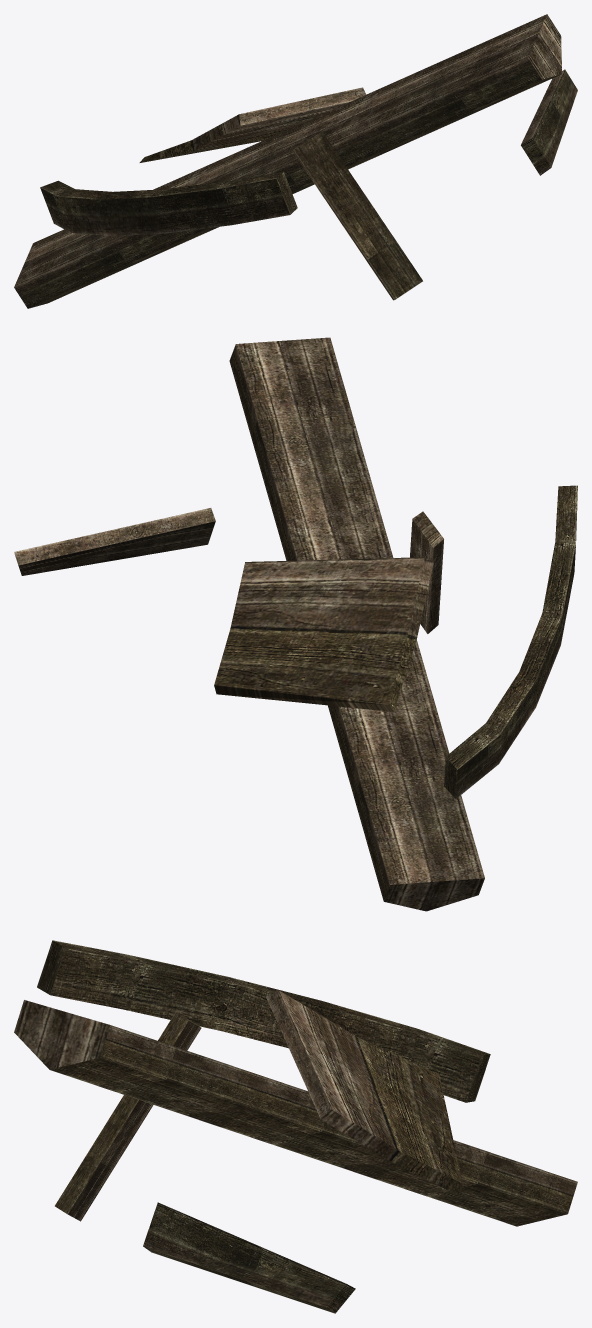
File: ships_broken_piece03.fbx
3 renders of one model, top to bottom at view 1: azimuth 30°, elevation 25°; view 2: azimuth 150°, elevation 25°; view 3: azimuth 270°, elevation 25°, orthographic. The views are drawn at different scales.
Parts seen in each view (by area): view 1: ships_broken_piece03; view 2: ships_broken_piece03; view 3: ships_broken_piece03.
Part boxes in pixels (x1,y1,x2,y2): ships_broken_piece03: (14,14,577,308); ships_broken_piece03: (14,337,577,911); ships_broken_piece03: (14,940,577,1313).
Size of the model in its own units: 9.45 by 5.89 by 7.35.
